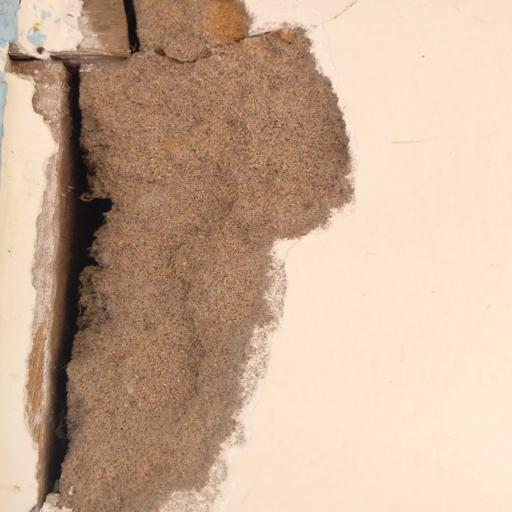spalling: (26, 0, 358, 512)
